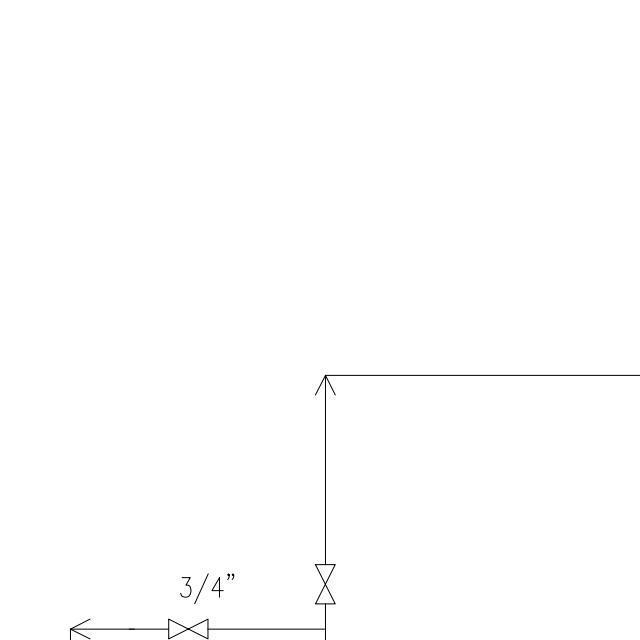GV: (160, 611, 213, 640), (310, 561, 338, 608)
